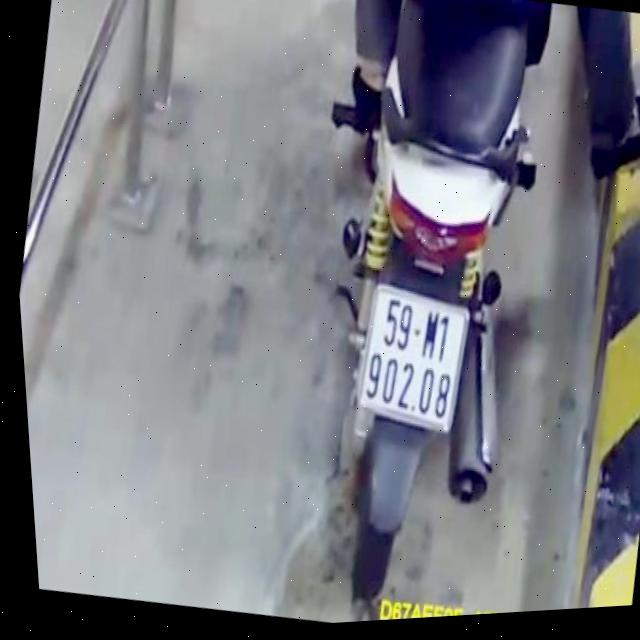motorcycle: (267, 0, 593, 624)
plate: (343, 273, 486, 446)
